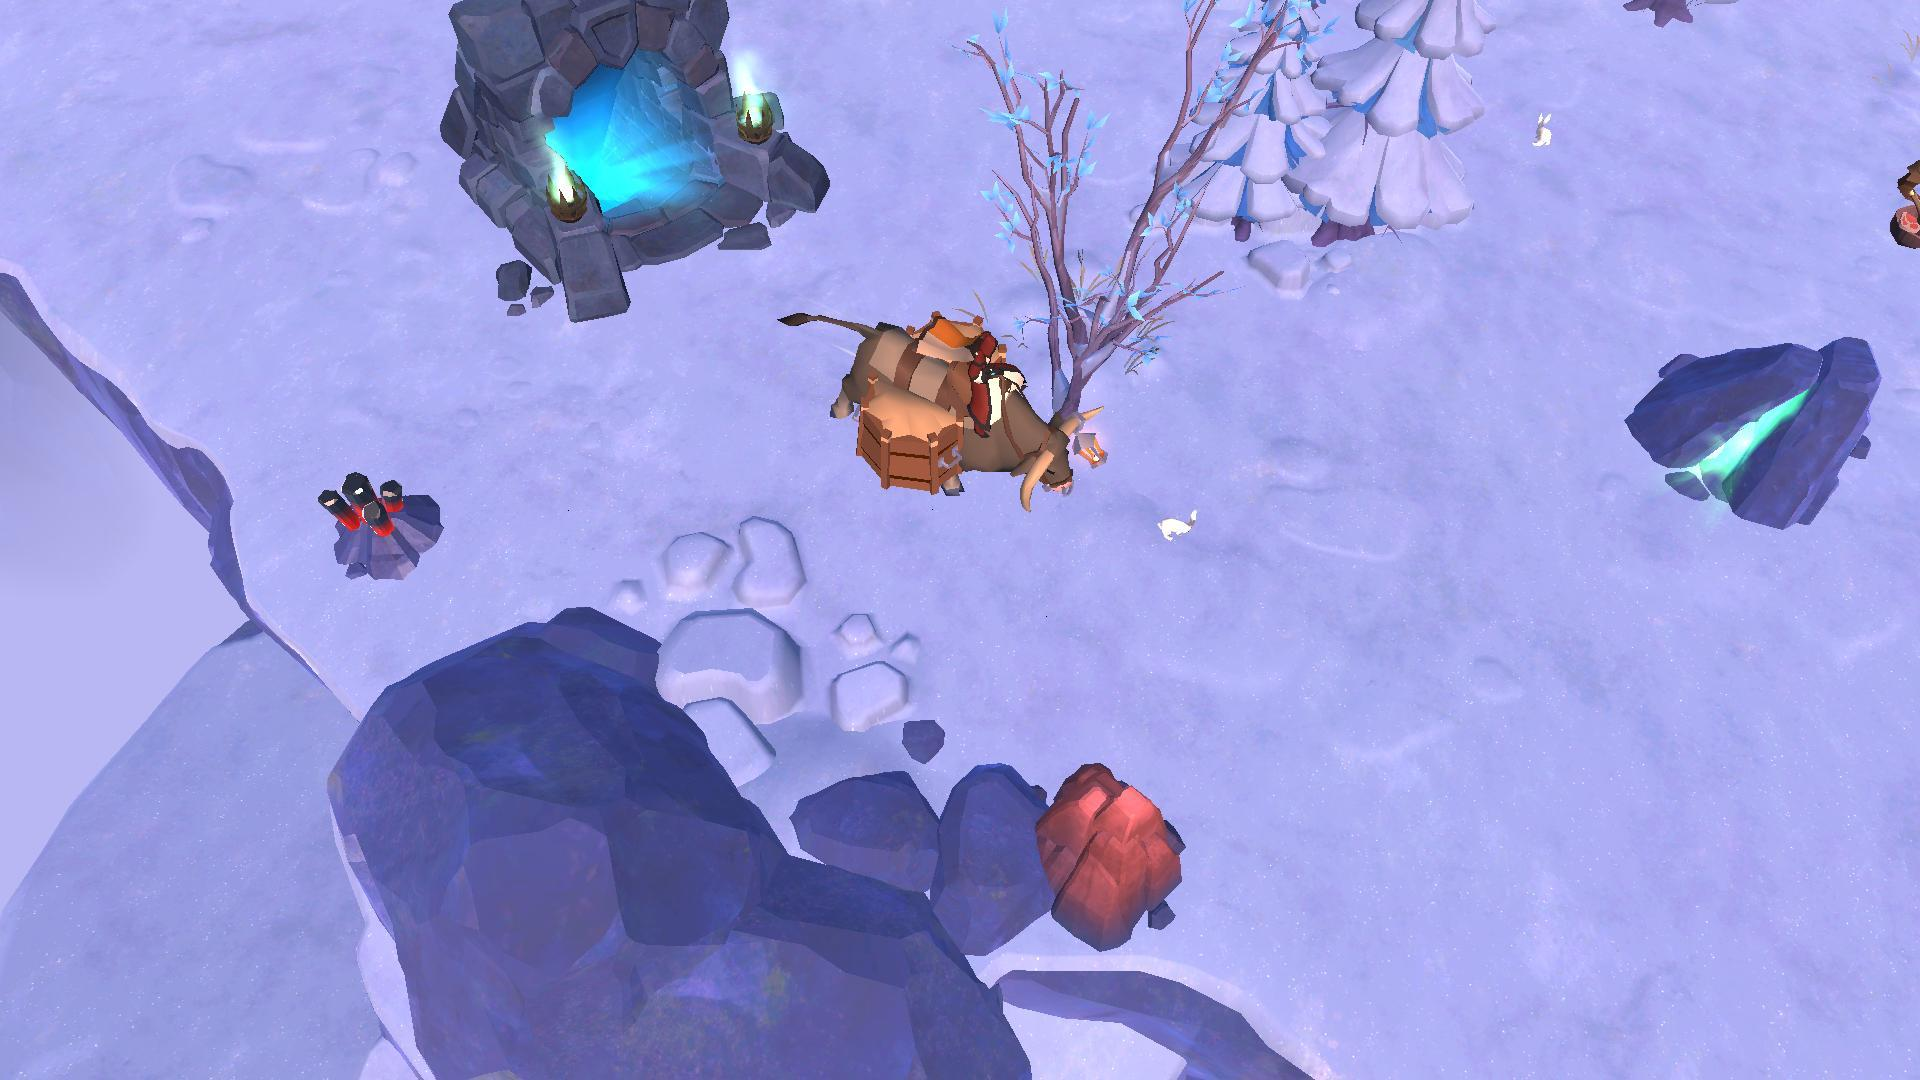ore_t5: (319, 473, 406, 541)
rock_t5: (1038, 762, 1184, 953)
